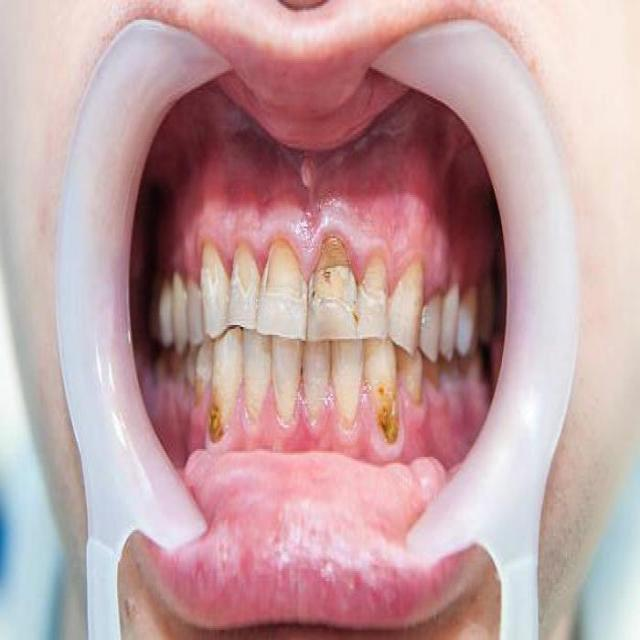CALCULUS: (180, 409, 239, 438), (379, 383, 404, 433), (320, 260, 349, 286)
